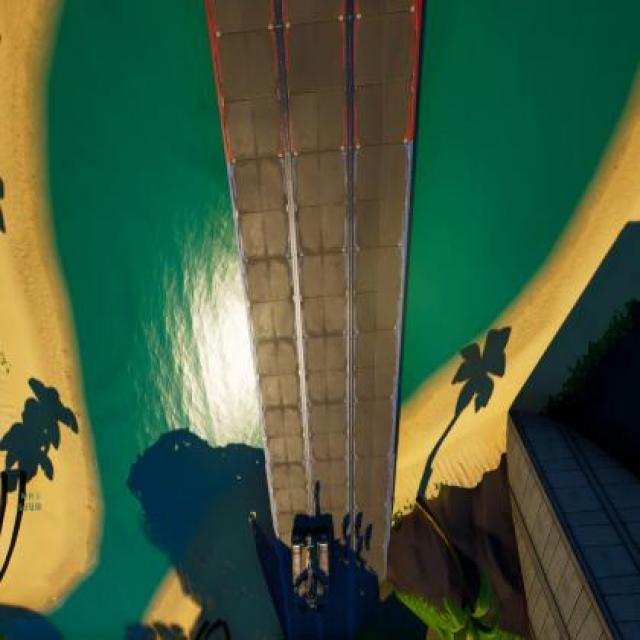tank: (290, 519, 330, 621)
